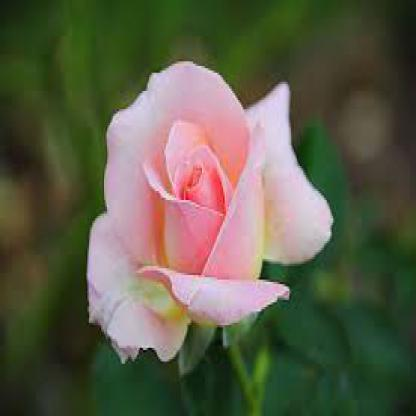Rose-Mawar: (81, 42, 337, 358)
